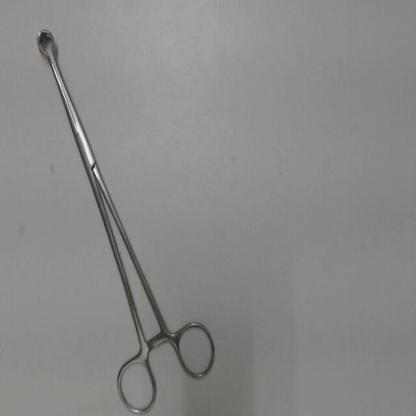8 Babcock Tissue Forceps: (33, 21, 221, 412)
